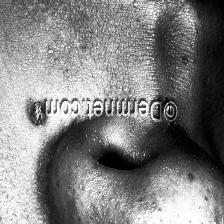Toxin: (28, 98, 42, 128)
